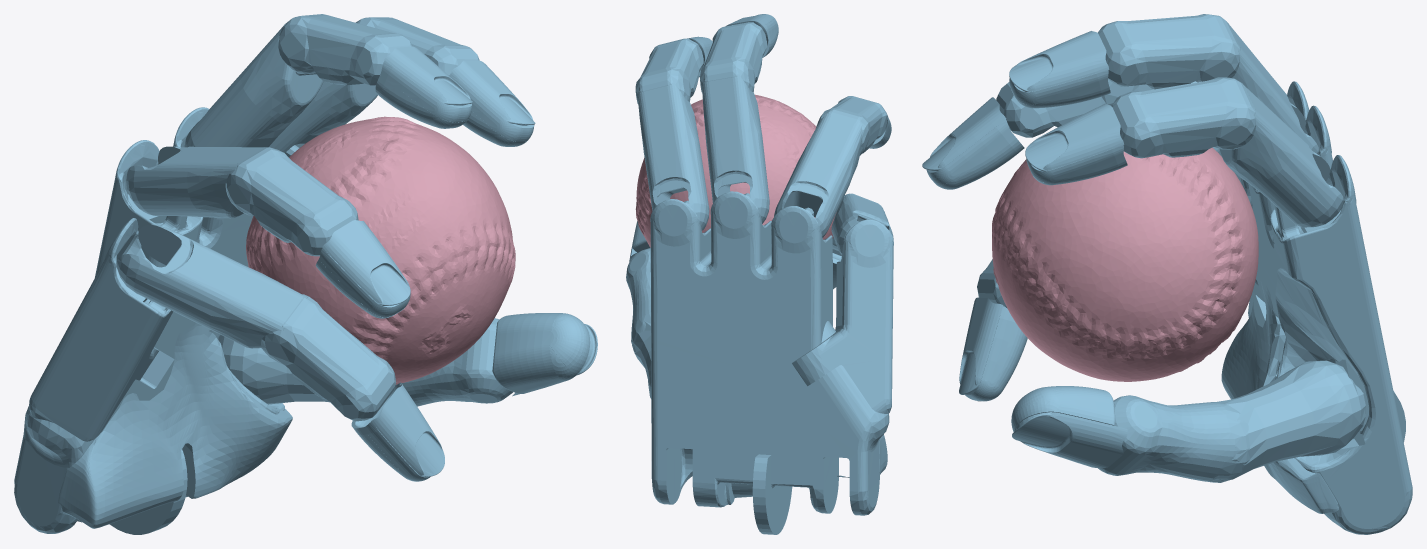
3 renders of one model, left to right at view 1: azimuth 30°, elevation 25°; view 2: azimuth 150°, elevation 25°; view 3: azimuth 270°, elevation 25°, orthographic. The views are drawn at different scales.
Visible parts, largest first — view 1: world, baseball.stl; view 2: world, baseball.stl; view 3: world, baseball.stl.
Boxes of the visible parts, <box> form: world: <box>14,14,597,534</box>; baseball.stl: <box>246,116,515,384</box>; world: <box>626,14,893,534</box>; baseball.stl: <box>635,94,836,247</box>; world: <box>922,14,1412,534</box>; baseball.stl: <box>992,147,1258,381</box>.
Bounding box in the file's own units: 0.1398 × 0.163 × 0.1335.
